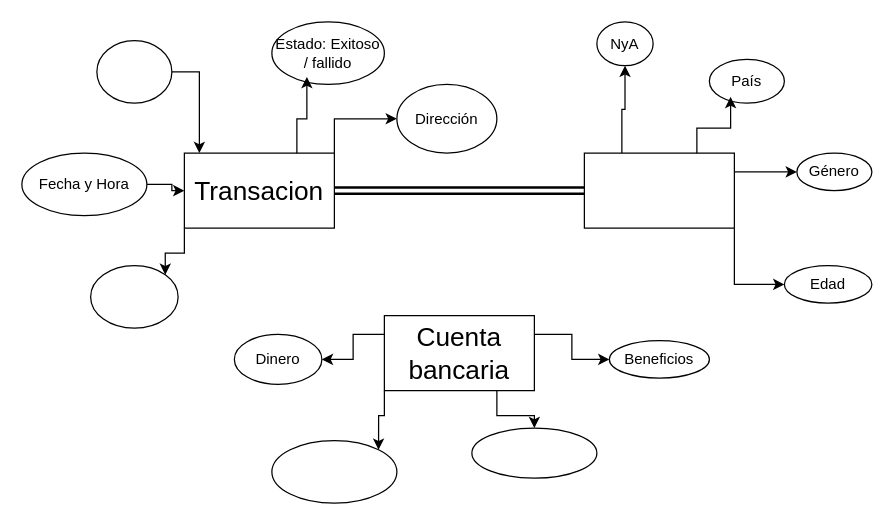
The diagram is 894 pixels wide and 525 high, and some of its shapes have lost their labels. The shapes that lost their labels are listed below. From the top down, each one's centre as x and y in pixels, then its label:
At point (134, 71): "Alias".
At point (658, 190): "Usuario".
At point (133, 296): "Cuil".
At point (334, 471): "Usuarios autorizados".
At point (534, 452): "N° tarjeta".
